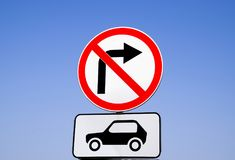No_right_turn: (77, 26, 164, 111)
